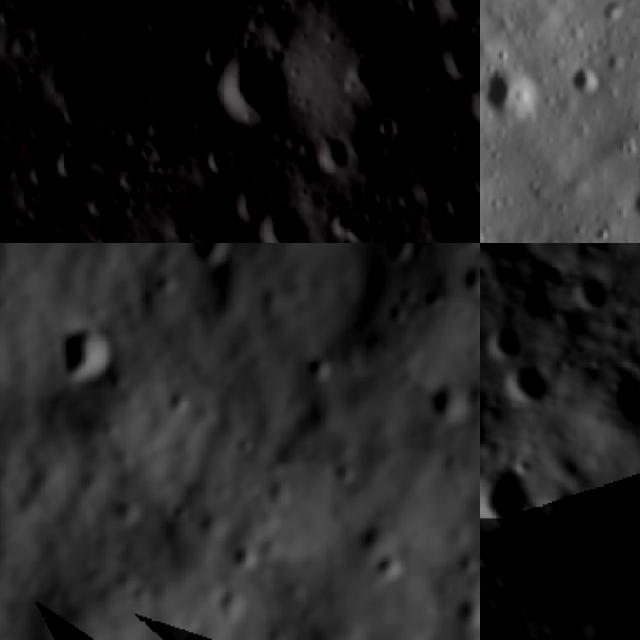crater: (480, 44, 558, 141), (211, 48, 292, 131), (331, 28, 409, 99), (54, 309, 123, 383), (480, 457, 527, 539), (413, 370, 478, 427), (554, 54, 616, 112), (614, 35, 640, 144), (431, 583, 480, 638), (504, 369, 554, 415), (253, 204, 309, 243), (294, 342, 343, 384), (436, 38, 480, 84), (154, 386, 197, 428), (175, 243, 237, 272), (376, 540, 412, 588), (198, 33, 237, 77), (232, 180, 271, 224), (346, 511, 385, 554), (223, 533, 262, 576), (211, 583, 248, 623), (51, 142, 86, 182), (480, 330, 524, 359), (430, 442, 467, 476), (618, 176, 640, 233), (413, 280, 449, 314), (200, 141, 234, 176), (378, 296, 416, 327), (452, 259, 480, 300), (624, 144, 640, 202), (613, 519, 640, 553), (534, 617, 567, 640), (439, 0, 480, 17), (378, 243, 411, 263), (394, 186, 418, 208), (467, 161, 480, 200)
